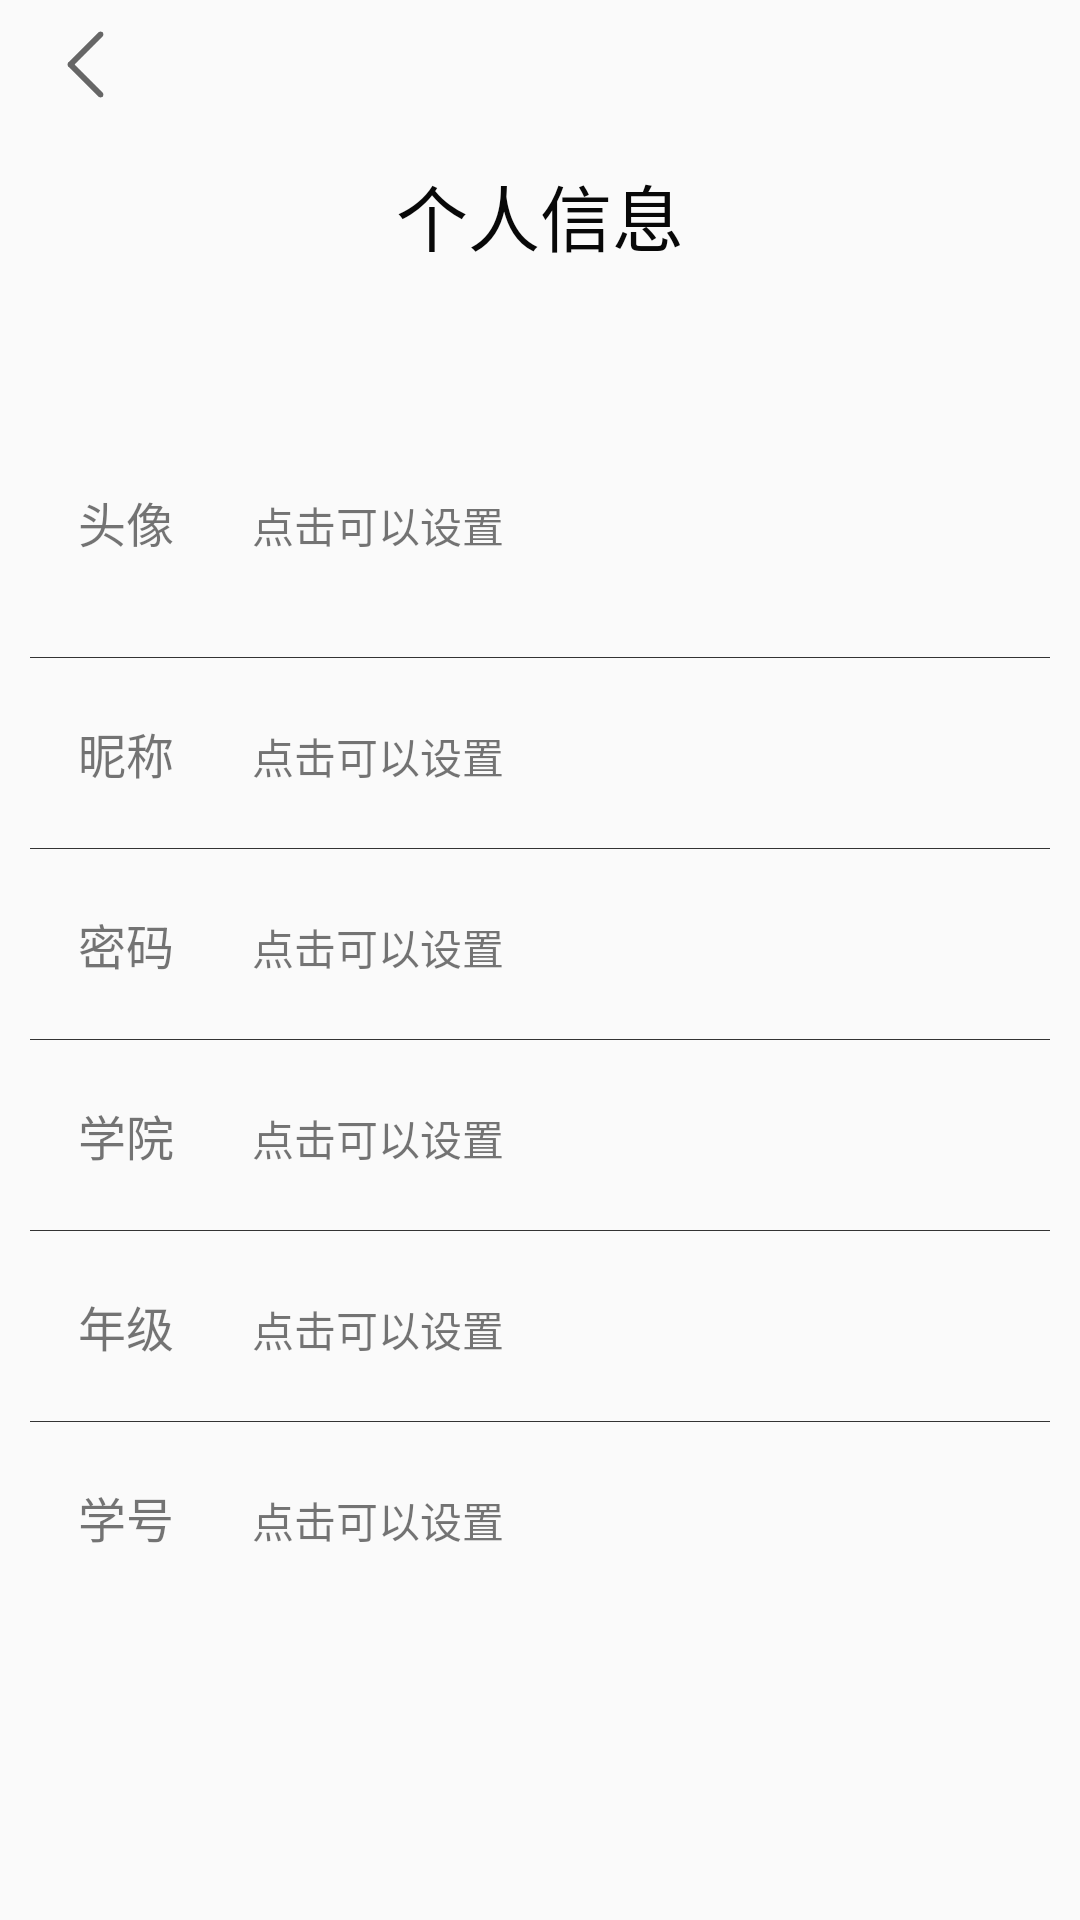

Icons on this 1080×1920 Android screen, each with its box as (x1, y1, x2, y2):
back: (67, 31, 104, 98)
